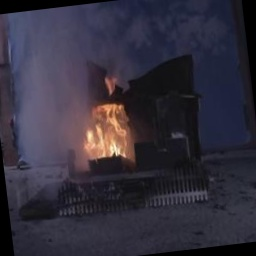fire: (72, 92, 147, 180)
smoke: (0, 0, 133, 106)
